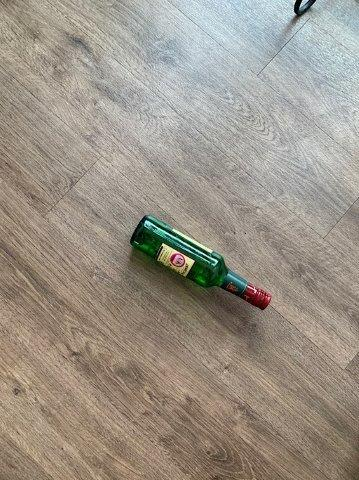botolkaca: (131, 215, 272, 309)
